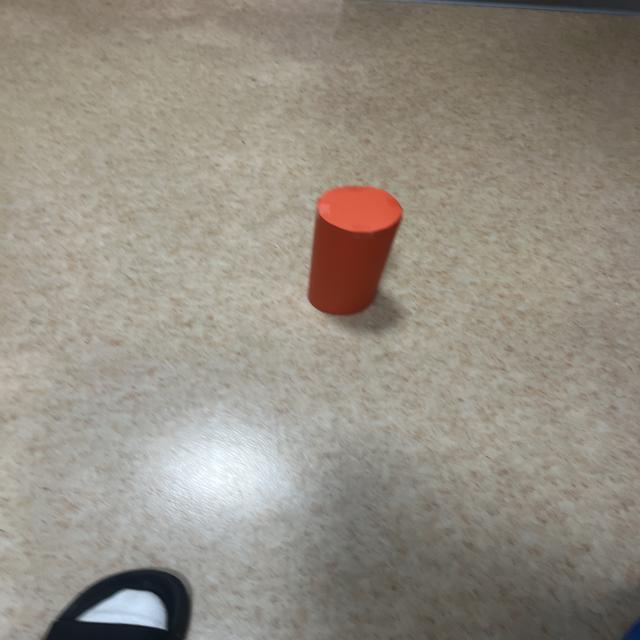przeszkoda: (308, 186, 402, 315)
